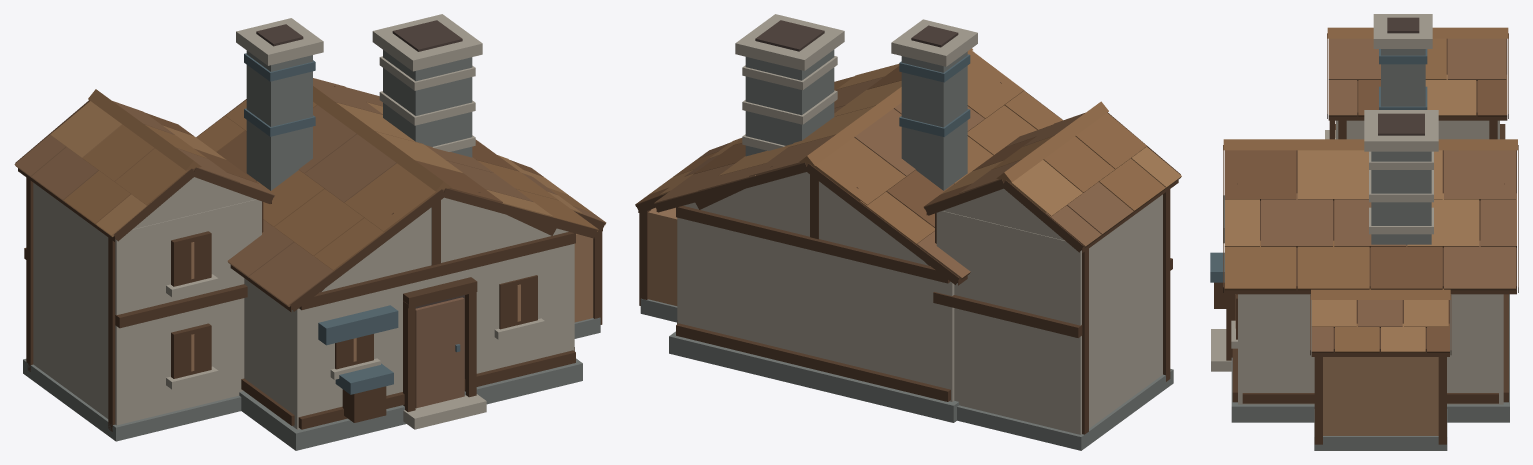
File: ENV_Civic_forge_LOD1.glb
3 views of the same model, side by side, from view 1: azimuth 30°, elevation 25°; view 2: azimuth 150°, elevation 25°; view 3: azimuth 270°, elevation 25° (orthographic). The views are drawn at different scales.
Visible parts, largest first — view 1: ENV_Civic_forge_LOD1_stage7_upper_wing_stone, ENV_Civic_forge_LOD1_shell_stone, ENV_Civic_forge_LOD1_roof_roofTiles, ENV_Civic_forge_LOD1_stage7_upper_wing_roofTiles, ENV_Civic_forge_LOD1_shell_woodDark, ENV_Civic_forge_LOD1_stage7_upper_wing_woodDark, ENV_Civic_forge_LOD1_stage8_roof_lantern_stoneDark, ENV_Civic_forge_LOD1_foundation_stoneDark, ENV_Civic_forge_LOD1_forge_identity_stoneDark, ENV_Civic_forge_LOD1_forge_identity_stone, ENV_Civic_forge_LOD1_shell_wood, ENV_Civic_forge_LOD1_stage7_upper_wing_stoneDark (+10 smaller); view 2: ENV_Civic_forge_LOD1_stage7_upper_wing_stone, ENV_Civic_forge_LOD1_shell_stone, ENV_Civic_forge_LOD1_roof_roofTiles, ENV_Civic_forge_LOD1_stage7_upper_wing_roofTiles, ENV_Civic_forge_LOD1_shell_woodDark, ENV_Civic_forge_LOD1_stage7_upper_wing_woodDark, ENV_Civic_forge_LOD1_stage8_roof_lantern_stoneDark, ENV_Civic_forge_LOD1_foundation_stoneDark, ENV_Civic_forge_LOD1_forge_identity_stoneDark, ENV_Civic_forge_LOD1_forge_identity_stone, ENV_Civic_forge_LOD1_stage7_upper_wing_stoneDark, ENV_Civic_forge_LOD1_roof_woodDark (+8 smaller); view 3: ENV_Civic_forge_LOD1_roof_roofTiles, ENV_Civic_forge_LOD1_shell_stone, ENV_Civic_forge_LOD1_stage7_upper_wing_roofTiles, ENV_Civic_forge_LOD1_stage5_shed_woodLight, ENV_Civic_forge_LOD1_stage5_shed_roofTiles, ENV_Civic_forge_LOD1_forge_identity_stone, ENV_Civic_forge_LOD1_forge_identity_stoneDark, ENV_Civic_forge_LOD1_foundation_stoneDark, ENV_Civic_forge_LOD1_shell_woodDark, ENV_Civic_forge_LOD1_stage5_shed_woodDark, ENV_Civic_forge_LOD1_stage8_roof_lantern_stoneDark, ENV_Civic_forge_LOD1_stage5_shed_stoneDark (+9 smaller).
Part boxes in pixels (x1,y1,x2,y2): ENV_Civic_forge_LOD1_stage7_upper_wing_stone: (33,177,261,425); ENV_Civic_forge_LOD1_shell_stone: (244,197,574,429); ENV_Civic_forge_LOD1_roof_roofTiles: (196,78,598,306); ENV_Civic_forge_LOD1_stage7_upper_wing_roofTiles: (14,89,274,236); ENV_Civic_forge_LOD1_shell_woodDark: (241,86,575,429); ENV_Civic_forge_LOD1_stage7_upper_wing_woodDark: (15,100,273,431); ENV_Civic_forge_LOD1_stage8_roof_lantern_stoneDark: (246,50,312,190); ENV_Civic_forge_LOD1_foundation_stoneDark: (239,358,582,450); ENV_Civic_forge_LOD1_forge_identity_stoneDark: (383,50,472,157); ENV_Civic_forge_LOD1_forge_identity_stone: (372,14,482,151); ENV_Civic_forge_LOD1_shell_wood: (415,297,464,408); ENV_Civic_forge_LOD1_stage7_upper_wing_stoneDark: (23,359,241,441); ENV_Civic_forge_LOD1_stage7_upper_wing_stone: (936,188,1162,434); ENV_Civic_forge_LOD1_shell_stone: (677,172,954,401); ENV_Civic_forge_LOD1_roof_roofTiles: (654,48,1062,279); ENV_Civic_forge_LOD1_stage7_upper_wing_roofTiles: (923,101,1181,248); ENV_Civic_forge_LOD1_shell_woodDark: (676,82,1001,401); ENV_Civic_forge_LOD1_stage7_upper_wing_woodDark: (924,112,1180,434); ENV_Civic_forge_LOD1_stage8_roof_lantern_stoneDark: (901,51,967,190); ENV_Civic_forge_LOD1_foundation_stoneDark: (669,331,958,422); ENV_Civic_forge_LOD1_forge_identity_stoneDark: (745,50,834,156); ENV_Civic_forge_LOD1_forge_identity_stone: (735,14,844,150); ENV_Civic_forge_LOD1_stage7_upper_wing_stoneDark: (957,369,1173,450); ENV_Civic_forge_LOD1_roof_woodDark: (654,77,1062,285); ENV_Civic_forge_LOD1_roof_roofTiles: (1223,139,1517,290); ENV_Civic_forge_LOD1_shell_stone: (1211,294,1503,404); ENV_Civic_forge_LOD1_stage7_upper_wing_roofTiles: (1327,27,1508,116); ENV_Civic_forge_LOD1_stage5_shed_woodLight: (1323,357,1438,435); ENV_Civic_forge_LOD1_stage5_shed_roofTiles: (1311,288,1450,352); ENV_Civic_forge_LOD1_forge_identity_stone: (1364,110,1438,234); ENV_Civic_forge_LOD1_forge_identity_stoneDark: (1371,151,1431,245); ENV_Civic_forge_LOD1_foundation_stoneDark: (1231,294,1509,422); ENV_Civic_forge_LOD1_shell_woodDark: (1226,183,1508,403); ENV_Civic_forge_LOD1_stage5_shed_woodDark: (1310,294,1451,444); ENV_Civic_forge_LOD1_stage8_roof_lantern_stoneDark: (1381,49,1425,106); ENV_Civic_forge_LOD1_stage5_shed_stoneDark: (1314,409,1447,450).
Size of the model in its own units: 8.76 by 5.68 by 5.23.
